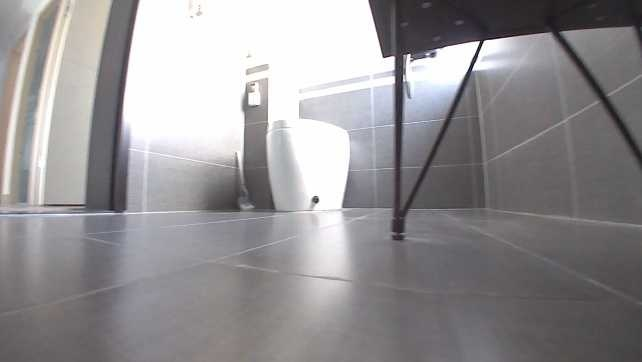toilet: (263, 117, 352, 212)
